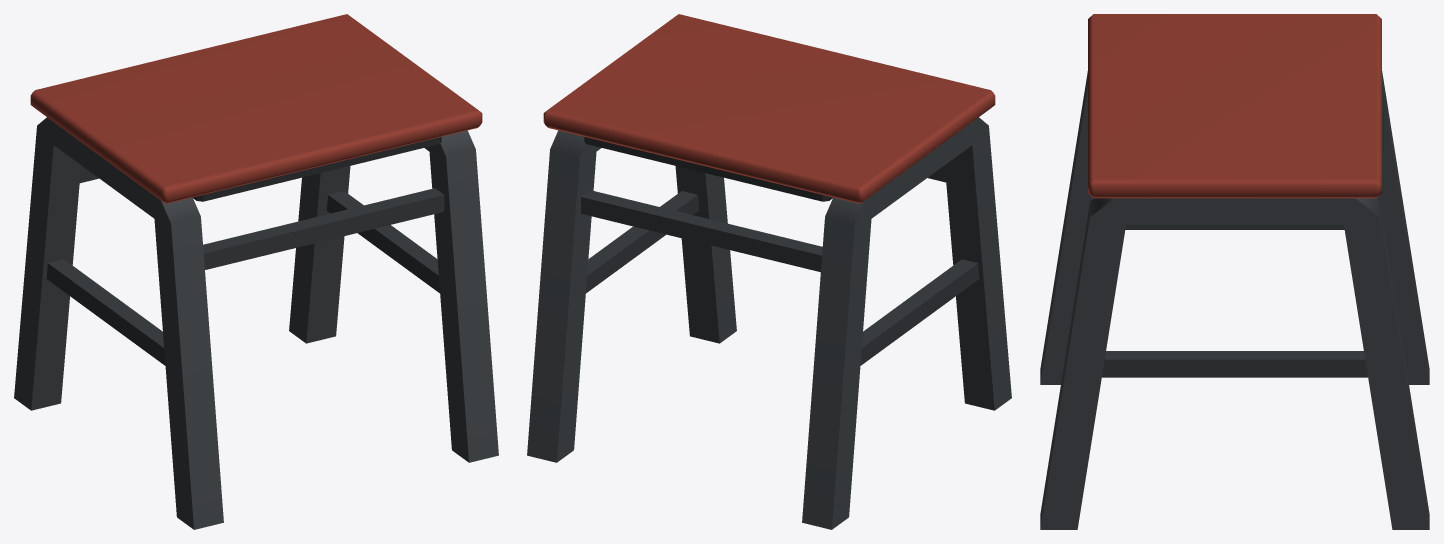
File: SM_GameArea_Chair_03.fbx
The picture shows the model from 3 angles, left to right: view 1: azimuth 30°, elevation 25°; view 2: azimuth 150°, elevation 25°; view 3: azimuth 270°, elevation 25°; orthographic projection. The views are drawn at different scales.
Parts seen in each view (by area): view 1: SM_GameArea_Chair_03; view 2: SM_GameArea_Chair_03; view 3: SM_GameArea_Chair_03.
Part boxes in pixels (x1=…): SM_GameArea_Chair_03: x1=14, y1=14, x2=498, y2=529; SM_GameArea_Chair_03: x1=527, y1=14, x2=1011, y2=529; SM_GameArea_Chair_03: x1=1040, y1=14, x2=1429, y2=529.
Size of what is drawn, in the model's own units: 159 by 154 by 154.
